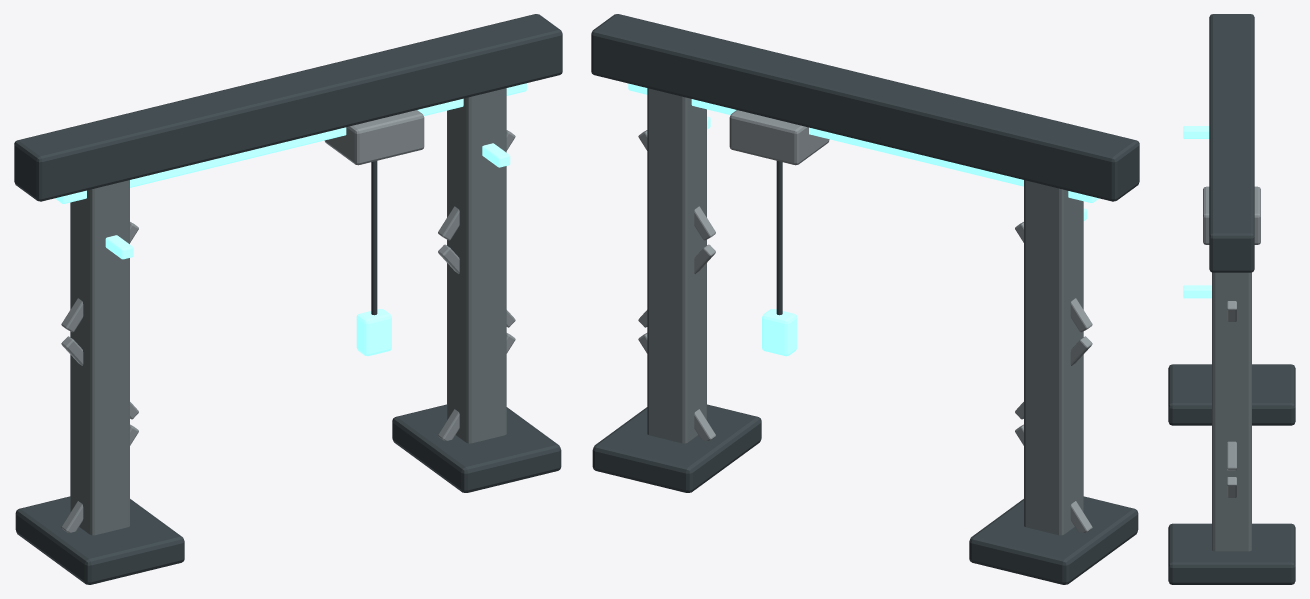
Rendered from DockCrane_A.fbx.
3 views of the same model, side by side, from view 1: azimuth 30°, elevation 25°; view 2: azimuth 150°, elevation 25°; view 3: azimuth 270°, elevation 25° (orthographic). The views are drawn at different scales.
Parts seen in each view (by area): view 1: Crane Main Beam, Crane Right Tower, Crane Left Tower, Crane Right Foot, Crane Left Foot, Crane Trolley, Crane Rail, Crane Hook, Crane Cable; view 2: Crane Main Beam, Crane Right Tower, Crane Left Tower, Crane Right Foot, Crane Left Foot, Crane Trolley, Crane Rail, Crane Hook, Crane Cable; view 3: Crane Main Beam, Crane Right Tower, Crane Right Foot, Crane Left Foot, Crane Trolley, Crane Tower Light.001, Crane Tower Light, Crane Cross Brace.004, Crane Cross Brace.003, Crane Cross Brace.005.
Part boxes in pixels (<box>): Crane Main Beam: <box>14,14,562,201</box>; Crane Right Tower: <box>447,88,506,443</box>; Crane Left Tower: <box>70,180,129,535</box>; Crane Right Foot: <box>392,404,561,492</box>; Crane Left Foot: <box>15,496,184,584</box>; Crane Trolley: <box>324,110,424,165</box>; Crane Rail: <box>55,83,526,203</box>; Crane Hook: <box>356,309,391,356</box>; Crane Cable: <box>371,161,377,315</box>; Crane Main Beam: <box>591,14,1139,201</box>; Crane Right Tower: <box>647,88,706,443</box>; Crane Left Tower: <box>1024,180,1083,535</box>; Crane Right Foot: <box>592,404,761,492</box>; Crane Left Foot: <box>969,496,1138,584</box>; Crane Trolley: <box>729,110,829,165</box>; Crane Rail: <box>628,83,1098,202</box>; Crane Hook: <box>762,309,797,356</box>; Crane Cable: <box>776,161,782,315</box>; Crane Main Beam: <box>1209,14,1254,272</box>; Crane Right Tower: <box>1212,272,1251,551</box>; Crane Right Foot: <box>1168,523,1295,584</box>; Crane Left Foot: <box>1168,364,1295,425</box>; Crane Trolley: <box>1203,186,1260,244</box>; Crane Tower Light.001: <box>1183,285,1211,298</box>; Crane Tower Light: <box>1183,126,1209,138</box>; Crane Cross Brace.004: <box>1227,441,1236,470</box>; Crane Cross Brace.003: <box>1227,477,1236,497</box>; Crane Cross Brace.005: <box>1227,301,1236,321</box>.
Size of the model in its own units: 9.5 by 7.21 by 2.3.
